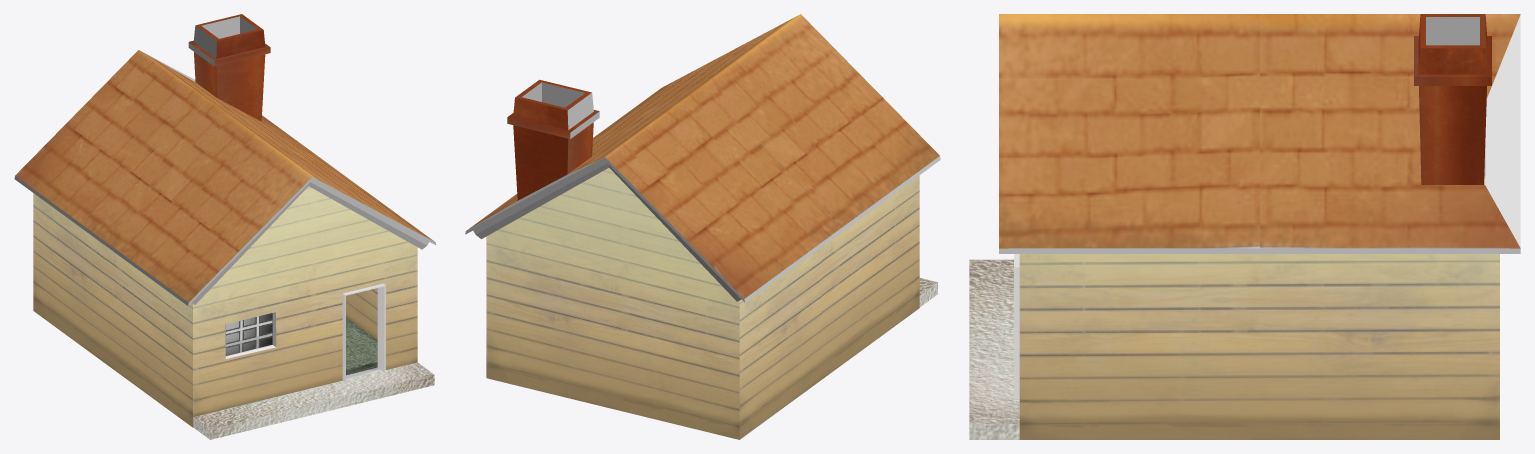
Rendered from house4.glb.
3 views of the same model, side by side, from view 1: azimuth 30°, elevation 25°; view 2: azimuth 150°, elevation 25°; view 3: azimuth 270°, elevation 25° (orthographic). The views are drawn at different scales.
Visible parts, largest first — view 1: paredesfuera, techo, pareddentro, casa, ventana; view 2: paredesfuera, techo, casa, pareddentro; view 3: techo, paredesfuera, casa, pareddentro.
Boxes of the visible parts, x1=… form: paredesfuera: x1=33, y1=186, x2=434, y2=439; techo: x1=15, y1=14, x2=434, y2=302; pareddentro: x1=194, y1=52, x2=381, y2=379; casa: x1=14, y1=16, x2=436, y2=358; ventana: x1=226, y1=313, x2=272, y2=355; paredesfuera: x1=486, y1=168, x2=937, y2=439; techo: x1=468, y1=14, x2=939, y2=298; casa: x1=465, y1=82, x2=940, y2=302; pareddentro: x1=567, y1=122, x2=593, y2=174; techo: x1=999, y1=14, x2=1520, y2=248; paredesfuera: x1=969, y1=254, x2=1499, y2=439; casa: x1=999, y1=15, x2=1520, y2=268; pareddentro: x1=1419, y1=86, x2=1486, y2=184.
Size of what is drawn, in the model's own units: 5.73 by 5.53 by 7.34.
1 material, 1 textured.
